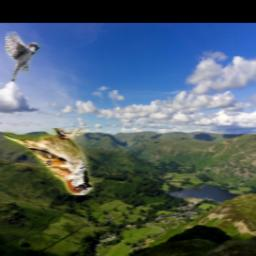Sparrow: (4, 129, 94, 196), (4, 32, 40, 82)
